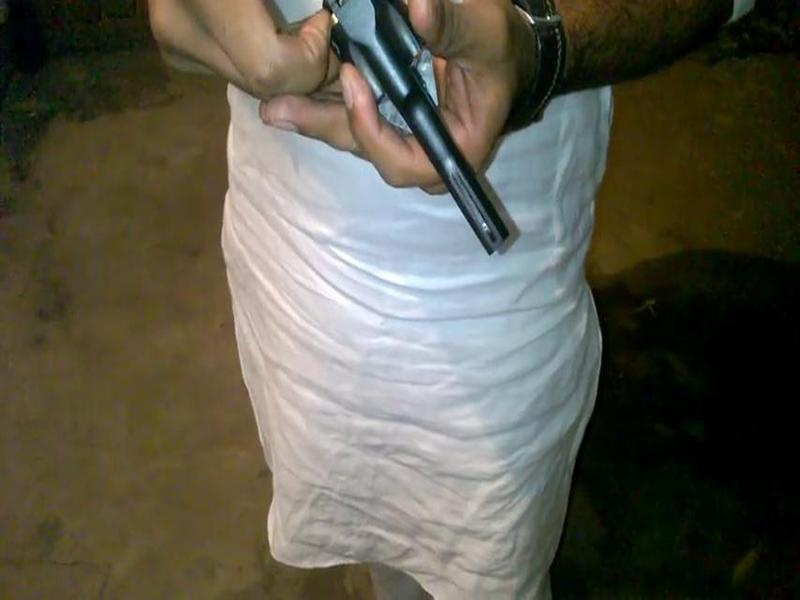Revolver: (316, 11, 548, 281)
